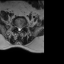CCS_severe_stenosis: (18, 25, 20, 33)
LFS_stenosis: (21, 25, 23, 29)
LLS_normal: (20, 26, 21, 32)
RFS_stenosis: (15, 24, 17, 29)
RLS_normal: (17, 25, 18, 31)
